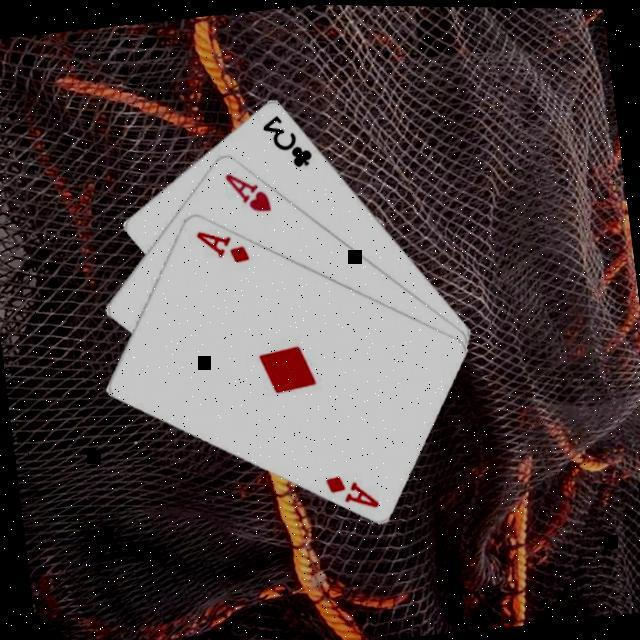3C: (259, 106, 318, 174)
AD: (193, 220, 254, 270), (323, 466, 384, 516)
AH: (222, 164, 276, 218)
